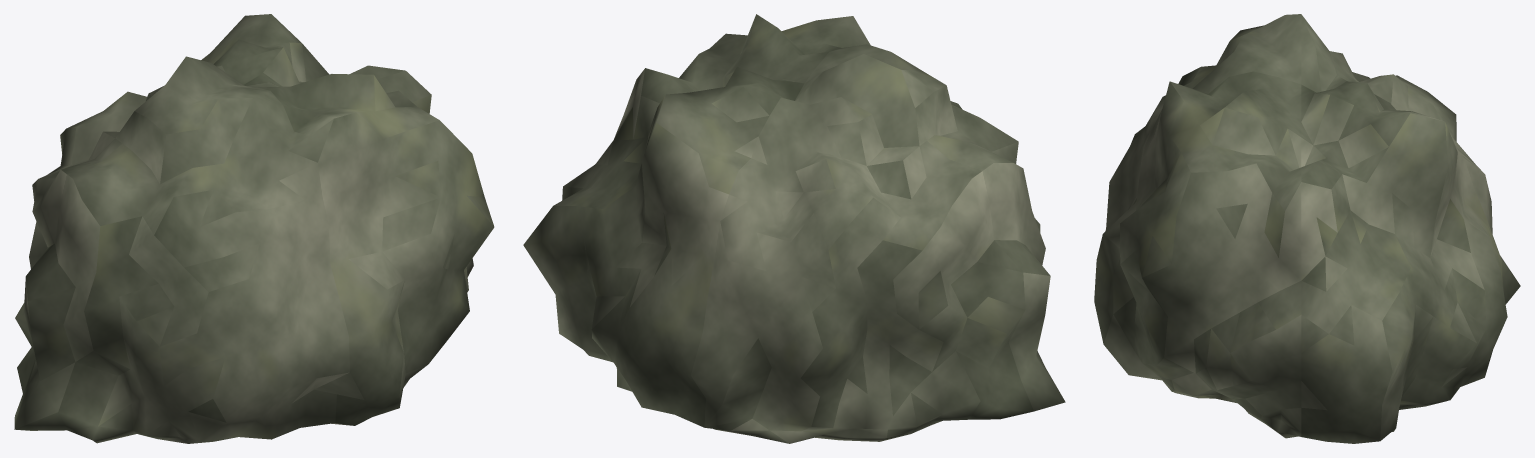
Rendered from Rock_Mossy_1.gltf.
3 views of the same model, side by side, from view 1: azimuth 30°, elevation 25°; view 2: azimuth 150°, elevation 25°; view 3: azimuth 270°, elevation 25° (orthographic). The views are drawn at different scales.
Visible parts, largest first — view 1: Rock_Mossy_1; view 2: Rock_Mossy_1; view 3: Rock_Mossy_1.
Boxes of the visible parts, x1,y1,x2,y2 form: Rock_Mossy_1: (14,14,494,443); Rock_Mossy_1: (523,14,1065,443); Rock_Mossy_1: (1094,14,1520,443).
Bounding box in the file's own units: 2.8 × 1.93 × 2.24.
Materials: 1 (1 with a texture image).
